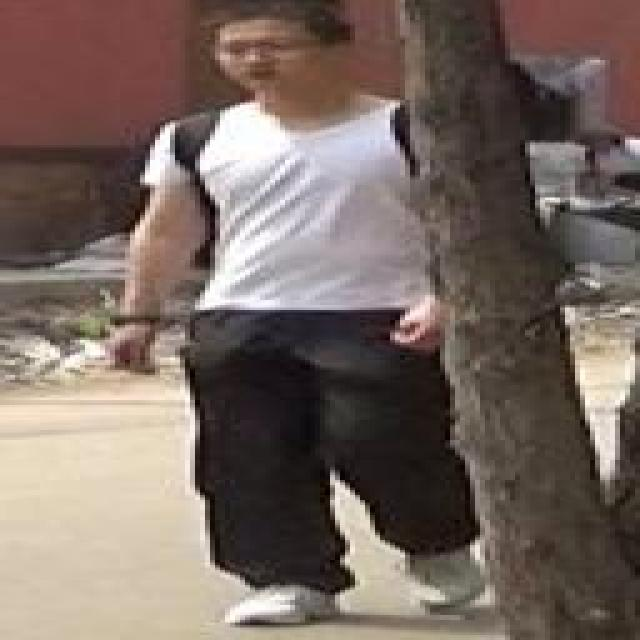adult: (90, 0, 435, 628)
